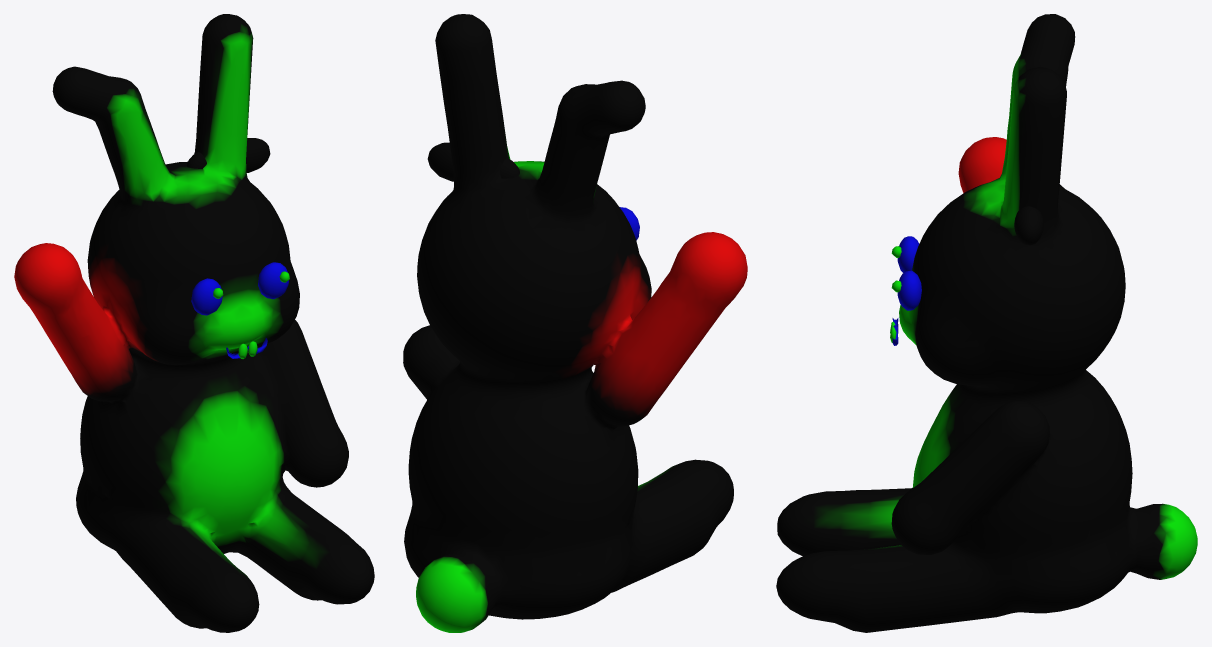
Rendered from bunny_wave.glb.
3 views of the same model, side by side, from view 1: azimuth 30°, elevation 25°; view 2: azimuth 150°, elevation 25°; view 3: azimuth 270°, elevation 25° (orthographic). The views are drawn at different scales.
Visible parts, largest first — view 1: bunny_wave; view 2: bunny_wave; view 3: bunny_wave.
Part boxes in pixels (x1,y1,x2,y2): bunny_wave: (14, 14, 374, 632); bunny_wave: (403, 14, 747, 632); bunny_wave: (776, 14, 1197, 632).
Size of the model in its own units: 0.6634 by 1.13 by 0.7758.
